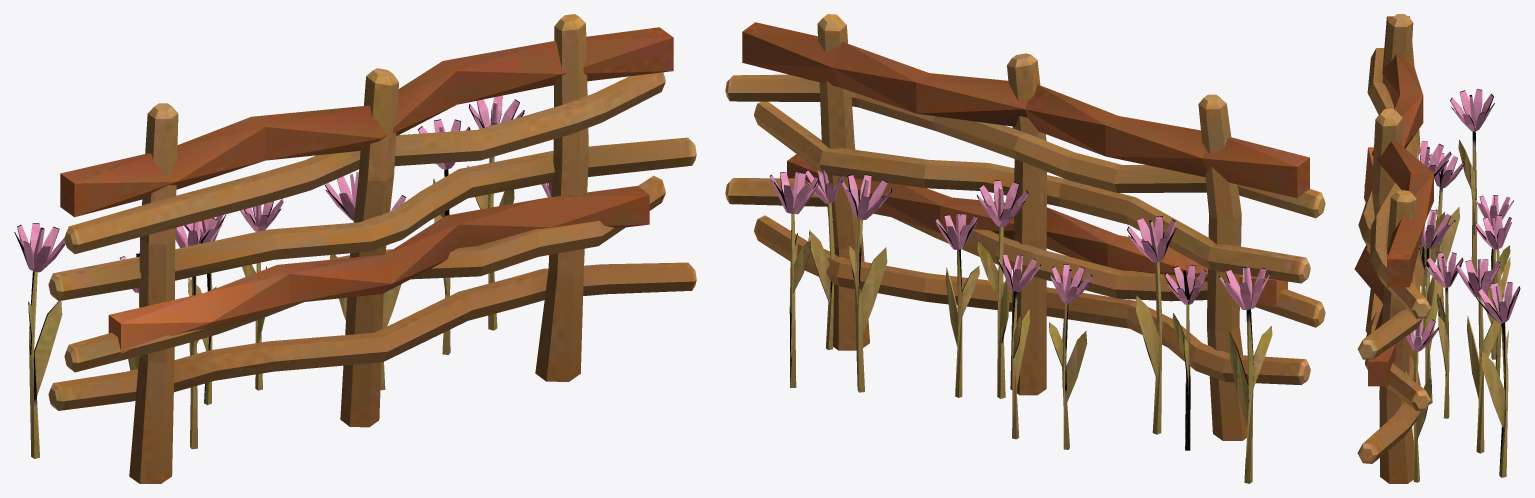
Rendered from fence_flower_lattice_low.glb.
The picture shows the model from 3 angles, left to right: view 1: azimuth 30°, elevation 25°; view 2: azimuth 150°, elevation 25°; view 3: azimuth 270°, elevation 25°; orthographic projection. The views are drawn at different scales.
Parts seen in each view (by area): view 1: fence_flower_lattice_low; view 2: fence_flower_lattice_low; view 3: fence_flower_lattice_low.
Boxes of the visible parts, x1,y1,x2,y2 form: fence_flower_lattice_low: (14, 14, 696, 483); fence_flower_lattice_low: (725, 14, 1325, 483); fence_flower_lattice_low: (1354, 14, 1520, 483).
Bounding box in the file's own units: 1.07 × 0.6 × 0.3.
1 material, 1 textured.
